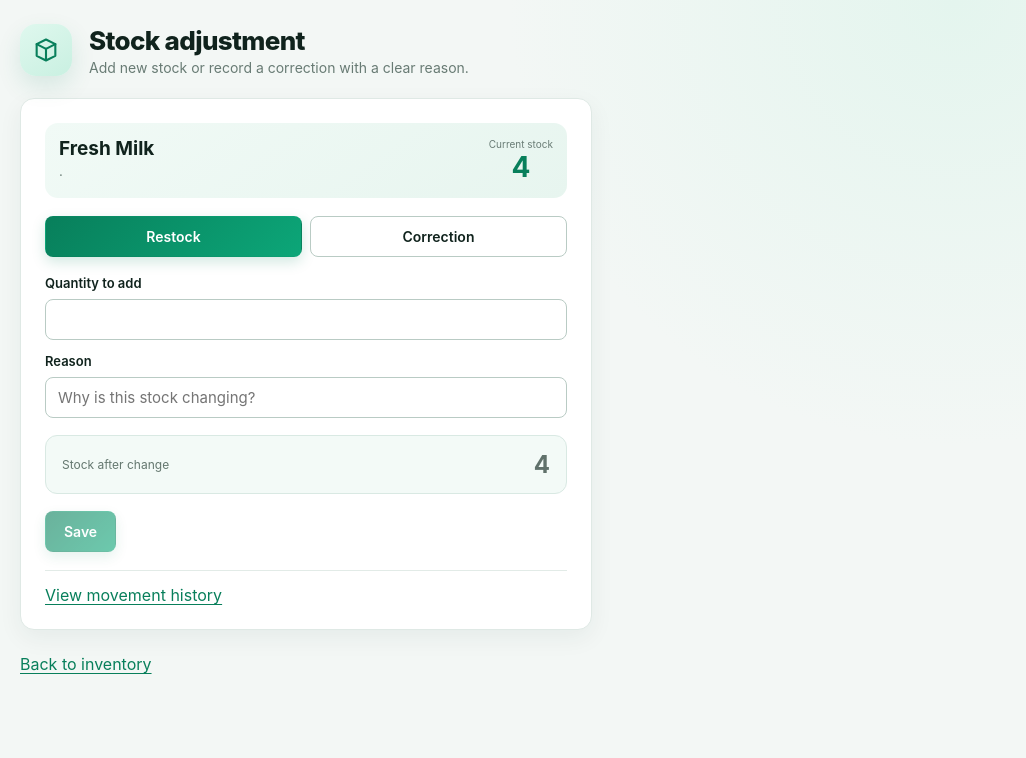
StockAdjustmentPage › submits a positive restock with its reason
Expected: the heading "Fresh Milk" is shown, x1=59 y1=137 x2=154 y2=160
Type "3" into the number field named "Quantity to add".
click(306, 320); type("3")  # box x1=45 y1=299 x2=567 y2=340
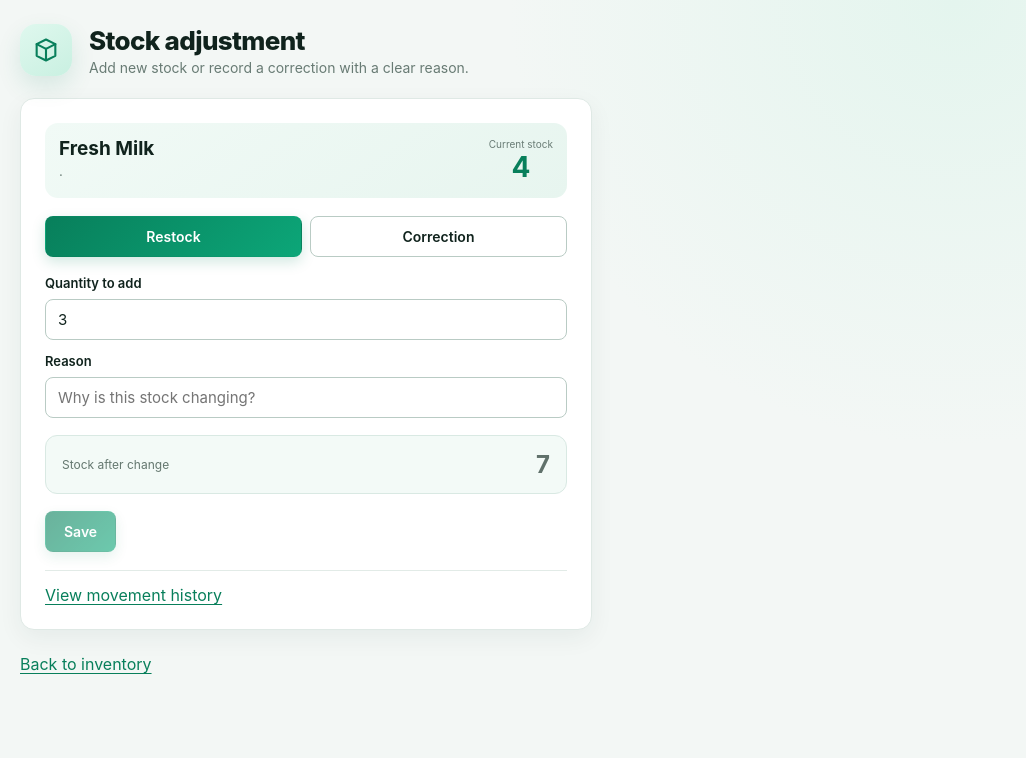
Type "Delivery" into the field named "Reason".
click(306, 398); type("Delivery")  # box x1=45 y1=377 x2=567 y2=418
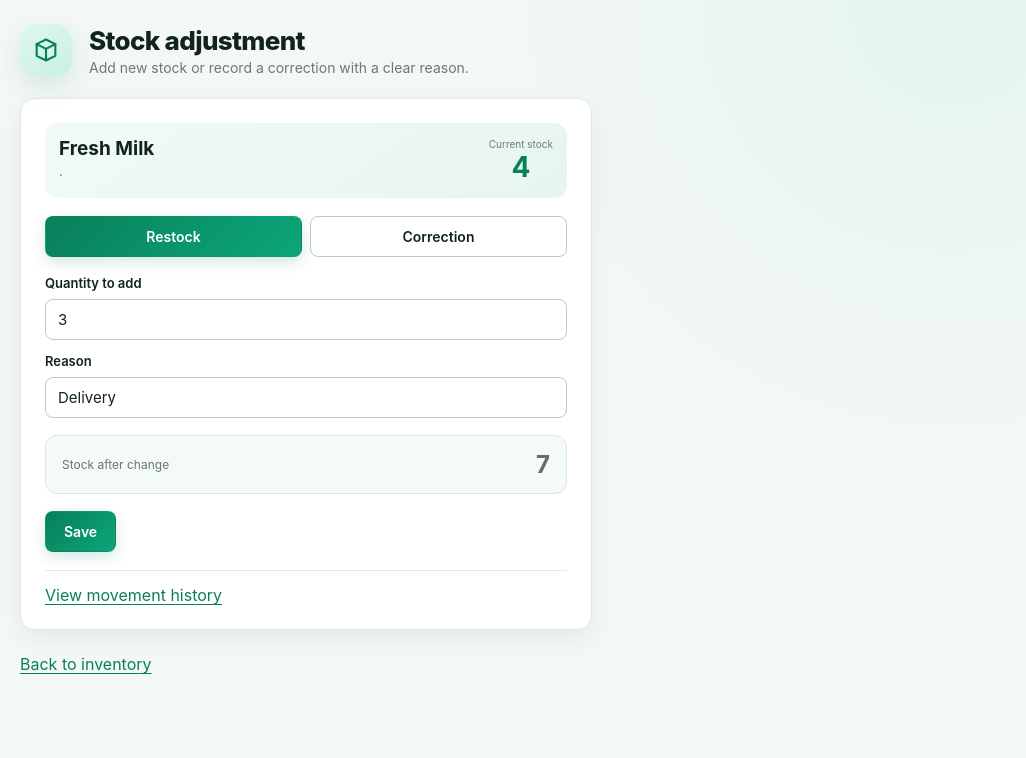
Click the button "Save".
click(81, 532)  # box x1=45 y1=511 x2=116 y2=552
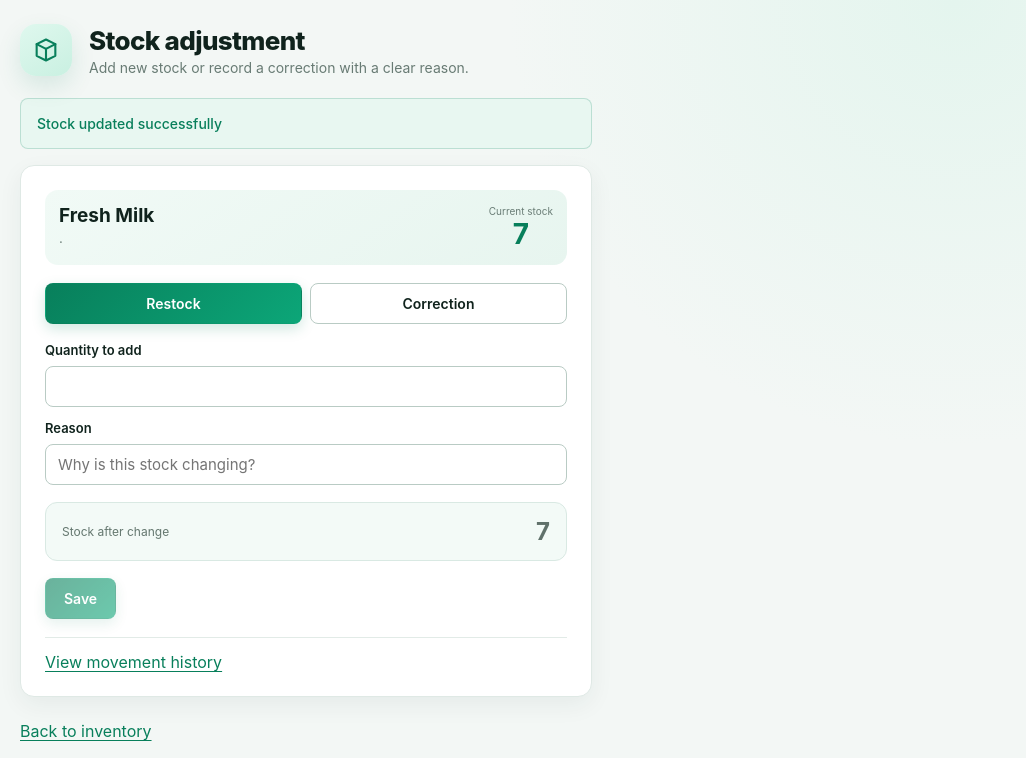
Now the text "Stock updated successfully" is shown, box x1=20 y1=98 x2=592 y2=149
